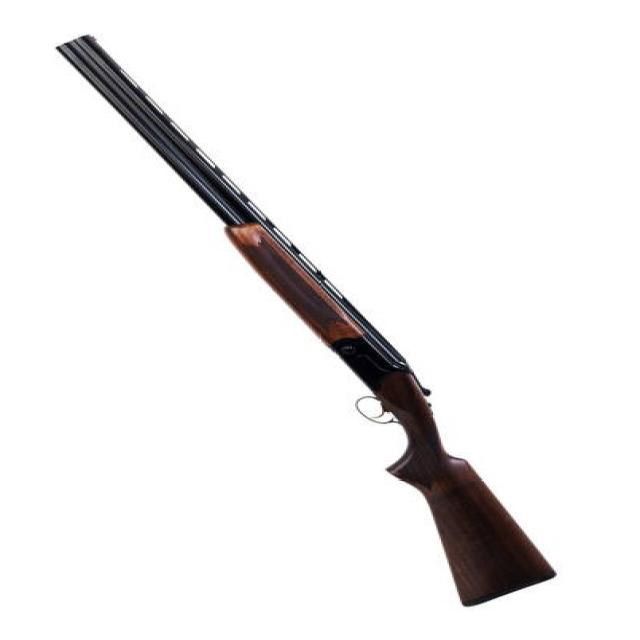rifle: (60, 35, 564, 613)
